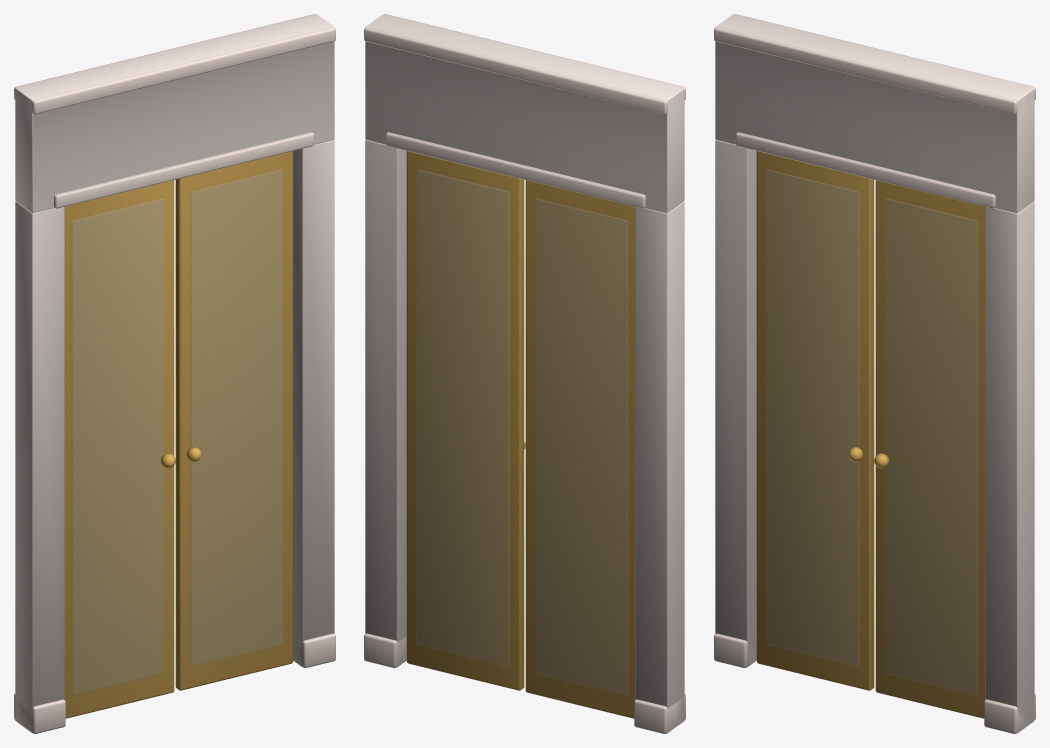
The model's file is wall-door.glb.
The picture shows the model from 3 angles, left to right: view 1: azimuth 30°, elevation 25°; view 2: azimuth 150°, elevation 25°; view 3: azimuth 330°, elevation 25°; orthographic projection.
Parts seen in each view (by area): view 1: wall-door; view 2: wall-door; view 3: wall-door.
Boxes of the visible parts, x1,y1,x2,y2 form: wall-door: (14,14,335,733); wall-door: (364,14,685,733); wall-door: (714,14,1035,733).
Size of the model in its own units: 1.4 by 2.8 by 0.1701.
